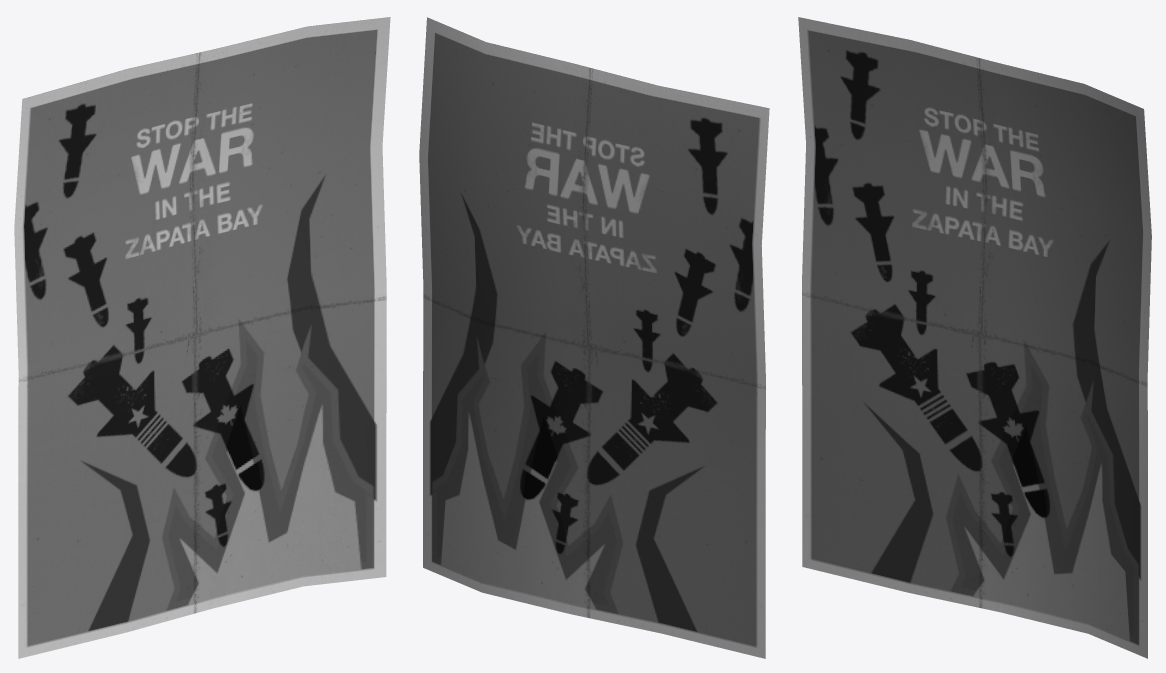
File: anti_war_poster.fbx
The picture shows the model from 3 angles, left to right: view 1: azimuth 30°, elevation 25°; view 2: azimuth 150°, elevation 25°; view 3: azimuth 330°, elevation 25°; orthographic projection. The views are drawn at different scales.
Visible parts, largest first — view 1: anti_war_poster; view 2: anti_war_poster; view 3: anti_war_poster.
Boxes of the visible parts, left/top/right/bottom form: anti_war_poster: left=14, top=17, right=390, bottom=658; anti_war_poster: left=419, top=17, right=769, bottom=658; anti_war_poster: left=798, top=17, right=1151, bottom=658.
Size of the model in its own units: 47.32 by 71.06 by 4.37.
